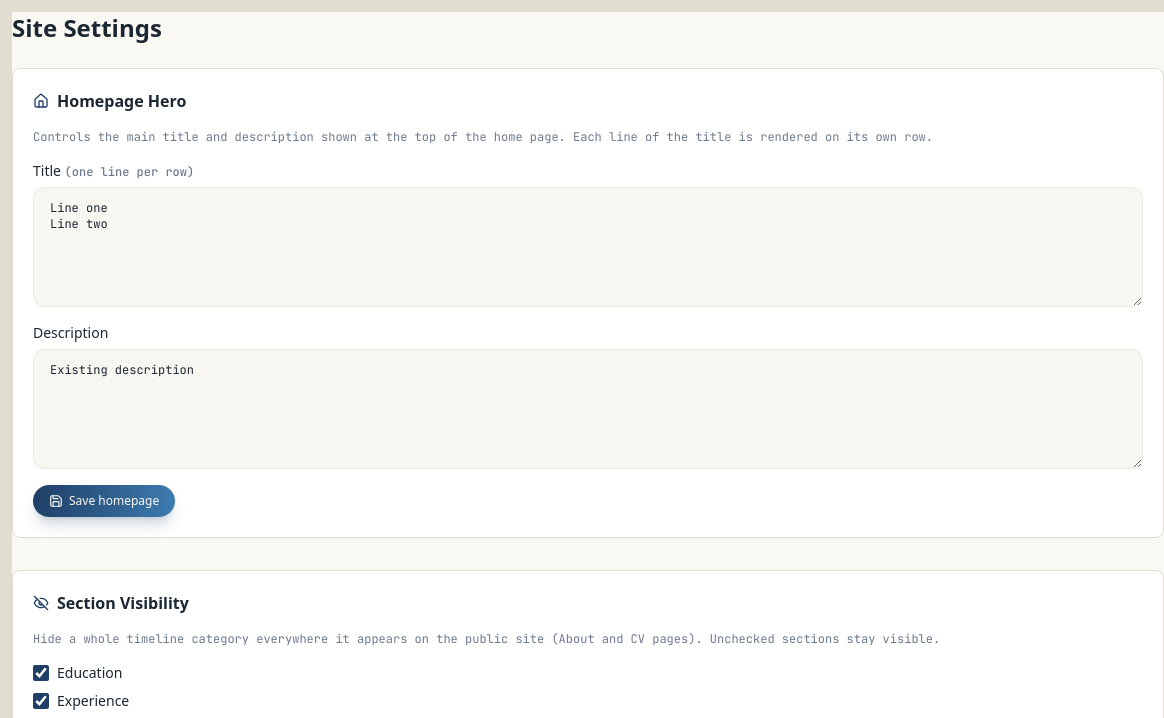
SettingsEditor › shows an error when saving the homepage fails
Click the button "Save homepage".
click(104, 501)  # box top-left (33, 485), bottom-right (175, 517)
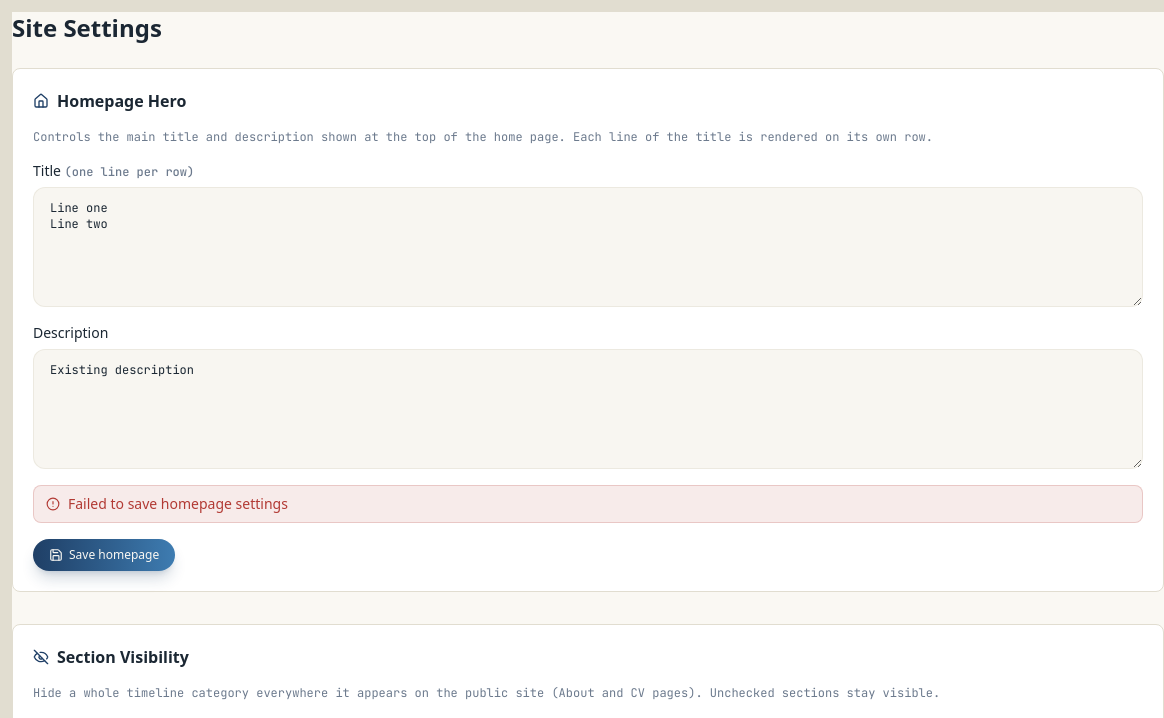
Check: the text "Failed to save homepage settings" is shown, box top-left (33, 485), bottom-right (1143, 523)
